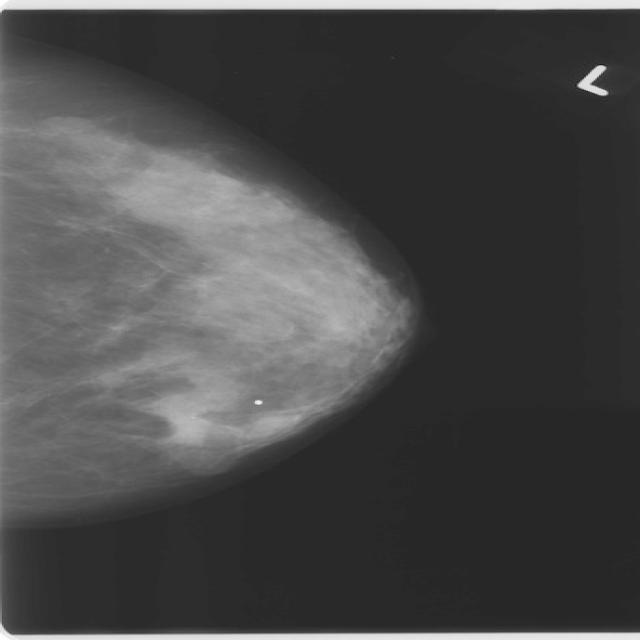tumour: (138, 391, 225, 446)
